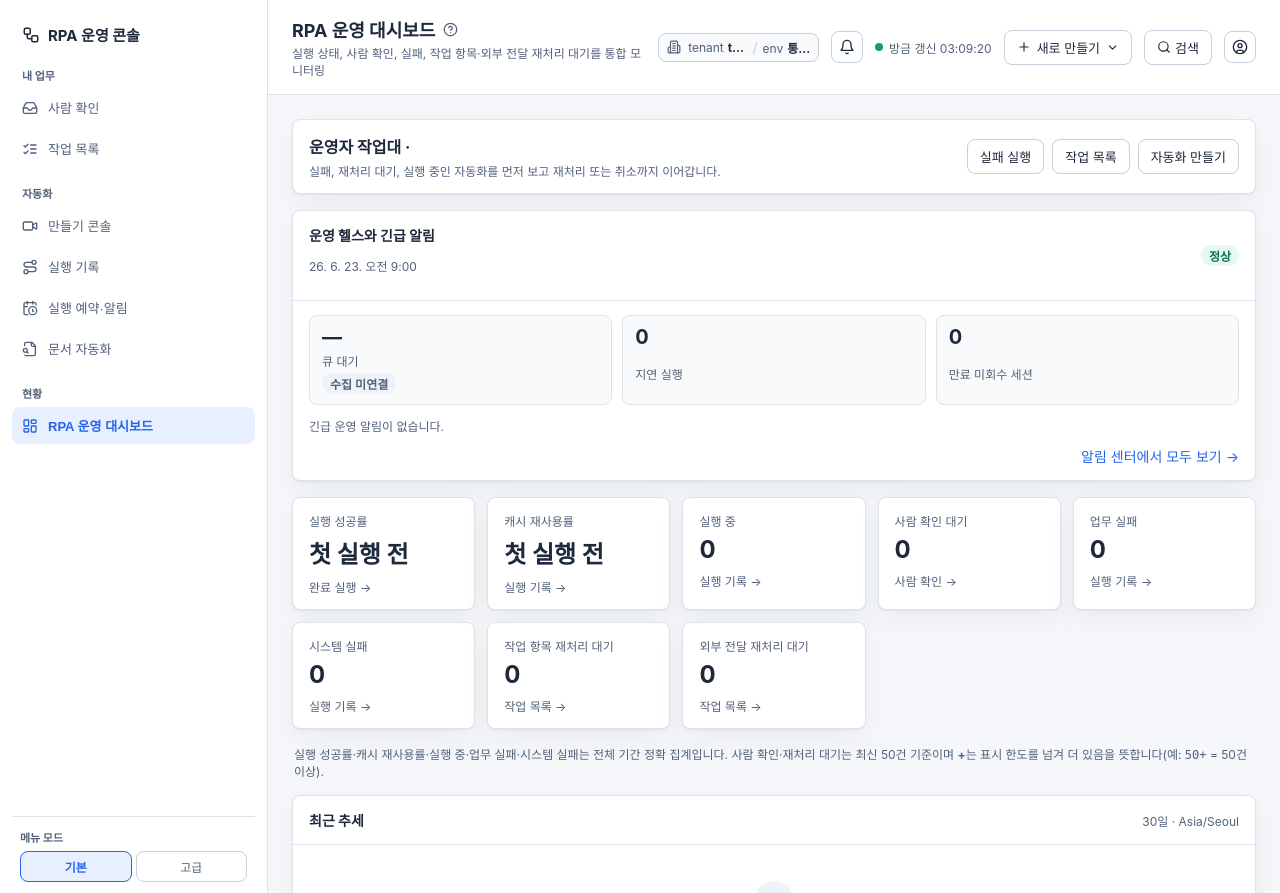
topbar alert bell › an observed empty list renders the honest empty row (never a fabricated zero while loading)
Click the button named "알림 — 새 알림 없음" at (847, 47), box top-left (831, 31), bottom-right (863, 63)
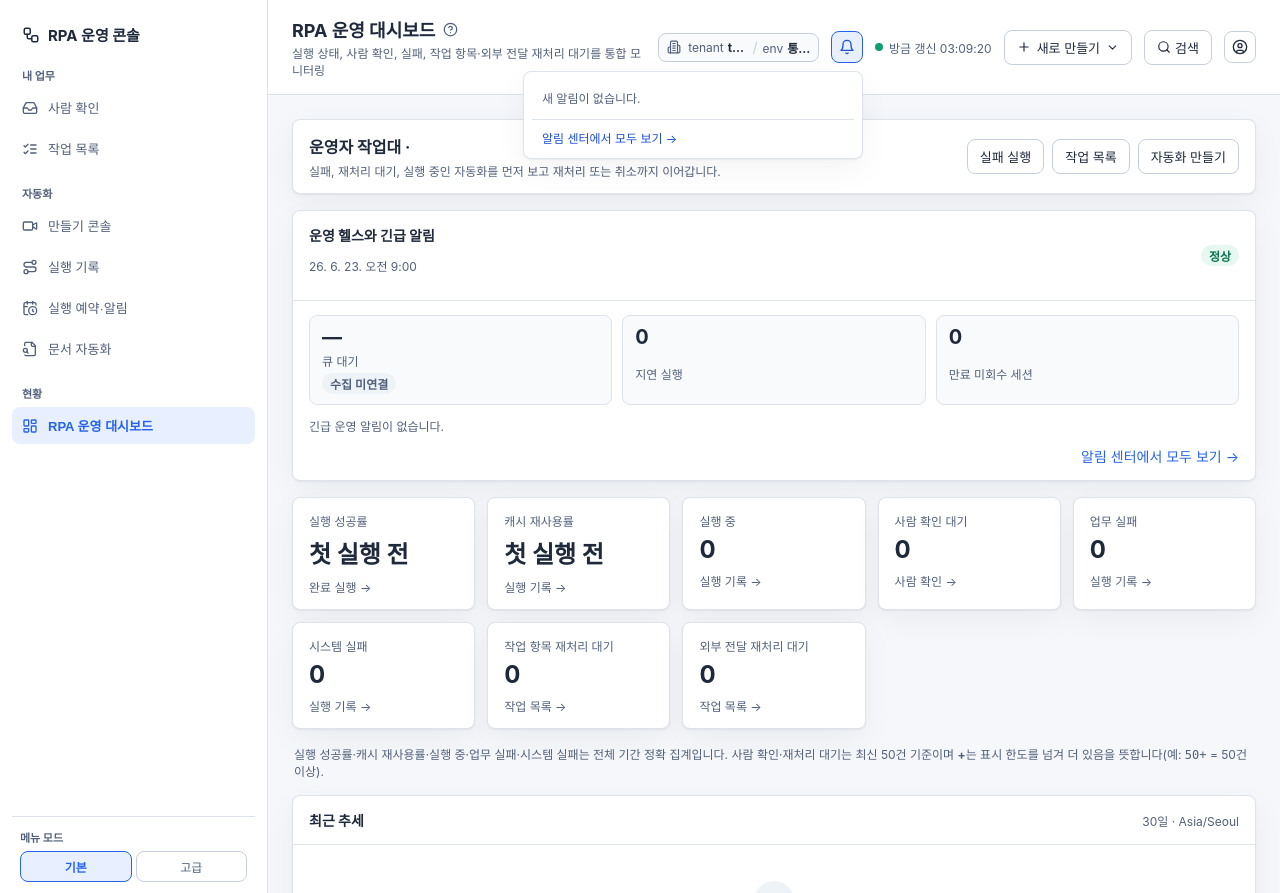
Expected: the menu item "새 알림이 없습니다." is shown, top-left (542, 91), bottom-right (640, 106)
